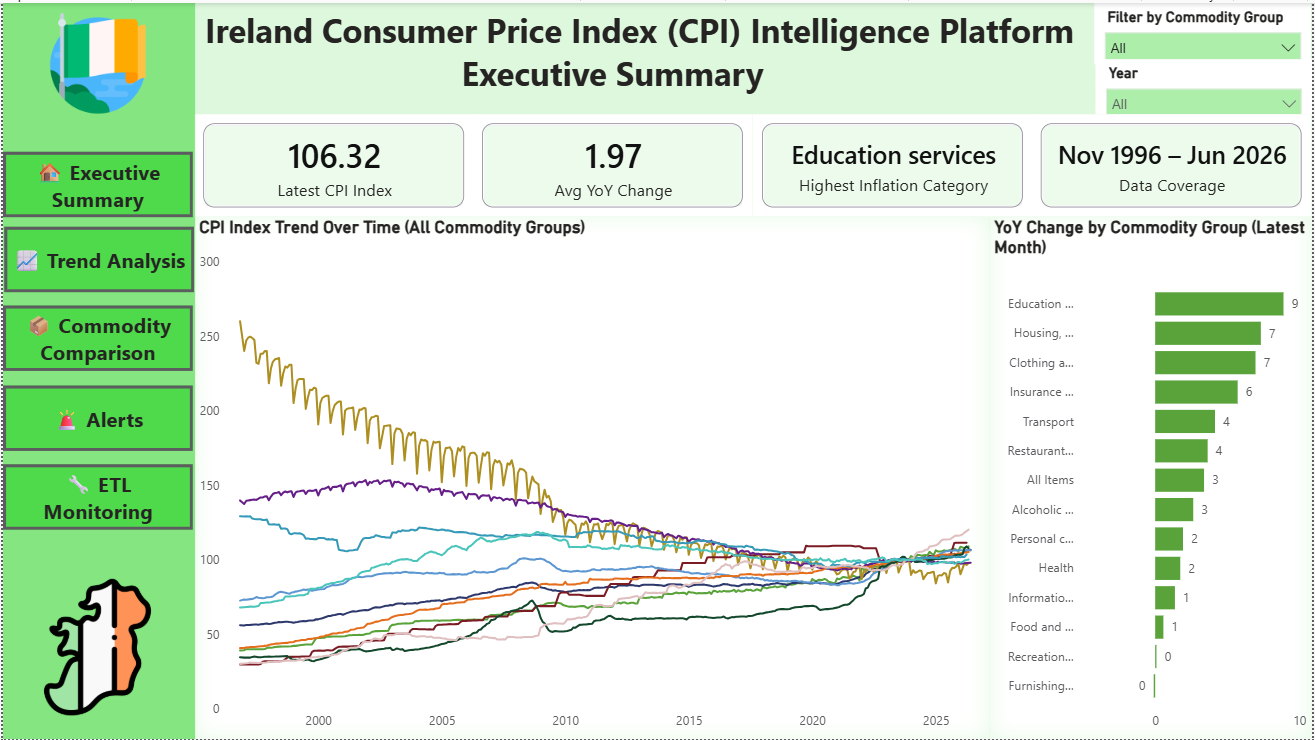

What the dashboard file says about the page in this screenshot:
{"tool":"powerbi","page":{"name":"Executive Summary","canvas":[1280,720],"ordinal":0},"visuals":[{"type":"cardVisual","fields":{"Data":["ireland_cpi_db vw_cpi_monthly_summary.Latest CPI Index"]},"box":[186.7,108.9,273.3,100],"z":0},{"type":"cardVisual","fields":{"Data":["ireland_cpi_db vw_cpi_monthly_summary.Avg YoY Change"]},"box":[460,108.9,273.3,100],"z":1000},{"type":"lineChart","title":"\tCPI Index Trend Over Time (All Commodity Groups)","fields":{"Category":["DateTable.Date"],"Y":["Sum(ireland_cpi_db vw_cpi_monthly_summary.index_value)"],"Series":["ireland_cpi_db vw_cpi_monthly_summary.group_name"]},"box":[186.7,208.9,777.8,511.1],"z":2000},{"type":"slicer","fields":{"Values":["ireland_cpi_db vw_cpi_monthly_summary.group_name"]},"box":[1068,0,212,60],"z":3000},{"type":"textbox","box":[0,0,1068.9,108.6],"z":4000},{"type":"cardVisual","fields":{"Data":["ireland_cpi_db vw_cpi_monthly_summary.Highest Inflation Category"]},"box":[733.3,108.9,273.3,100],"z":5000},{"type":"cardVisual","fields":{"Data":["ireland_cpi_db vw_cpi_monthly_summary.Data Coverage"]},"box":[1006.7,108.9,273.3,100],"z":6000},{"type":"clusteredBarChart","title":"YoY Change by Commodity Group (Latest Month)","fields":{"Category":["ireland_cpi_db vw_cpi_monthly_summary.group_name"],"Y":["Sum(ireland_cpi_db vw_cpi_monthly_summary.yoy_change)"]},"box":[964.4,208.9,315.6,511.1],"z":7000},{"type":"textbox","box":[0,0,188,720],"z":8000},{"type":"image","box":[26,562,133.9,135.1],"z":9000},{"type":"actionButton","box":[0,145,185.8,64.2],"z":10000},{"type":"actionButton","box":[0.8,219.2,185.8,64.2],"z":11000},{"type":"actionButton","box":[0,295.8,185.8,64.2],"z":12000},{"type":"actionButton","box":[0,374.2,185.8,64.2],"z":13000},{"type":"actionButton","box":[0,450.8,185.8,64.2],"z":14000},{"type":"image","box":[26,10,134,98],"z":15000},{"type":"slicer","fields":{"Values":["DateTable.Year"]},"box":[1068.5,54.7,211.7,53.3],"z":16000}]}

Visuals, with their boxes in screenshot pixels (x1, y1, x2, y2), scaled from the page's 1280x720 canvas onto the 1315x740 screenshot:
cardVisual - ireland_cpi_db vw_cpi_monthly_summary.Latest CPI Index: x1=192 y1=112 x2=473 y2=215
cardVisual - ireland_cpi_db vw_cpi_monthly_summary.Avg YoY Change: x1=473 y1=112 x2=753 y2=215
"	CPI Index Trend Over Time (All Commodity Groups)" lineChart: x1=192 y1=215 x2=991 y2=739
slicer - ireland_cpi_db vw_cpi_monthly_summary.group_name: x1=1097 y1=0 x2=1314 y2=62
textbox: x1=0 y1=0 x2=1098 y2=112
cardVisual - ireland_cpi_db vw_cpi_monthly_summary.Highest Inflation Category: x1=753 y1=112 x2=1034 y2=215
cardVisual - ireland_cpi_db vw_cpi_monthly_summary.Data Coverage: x1=1034 y1=112 x2=1314 y2=215
"YoY Change by Commodity Group (Latest Month)" clusteredBarChart: x1=991 y1=215 x2=1314 y2=739
textbox: x1=0 y1=0 x2=193 y2=739
image: x1=27 y1=578 x2=164 y2=716
actionButton: x1=0 y1=149 x2=191 y2=215
actionButton: x1=1 y1=225 x2=192 y2=291
actionButton: x1=0 y1=304 x2=191 y2=370
actionButton: x1=0 y1=385 x2=191 y2=451
actionButton: x1=0 y1=463 x2=191 y2=529
image: x1=27 y1=10 x2=164 y2=111
slicer - DateTable.Year: x1=1098 y1=56 x2=1314 y2=111
